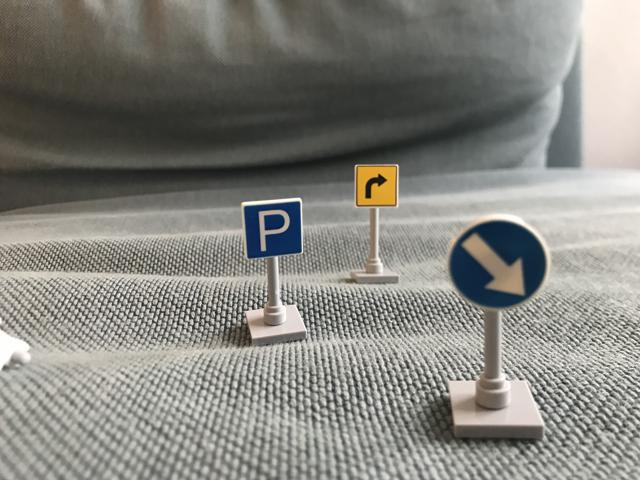fahrtrichtung rechts: (351, 161, 401, 211)
parken: (237, 194, 308, 261)
rechts halten: (444, 218, 551, 312)
